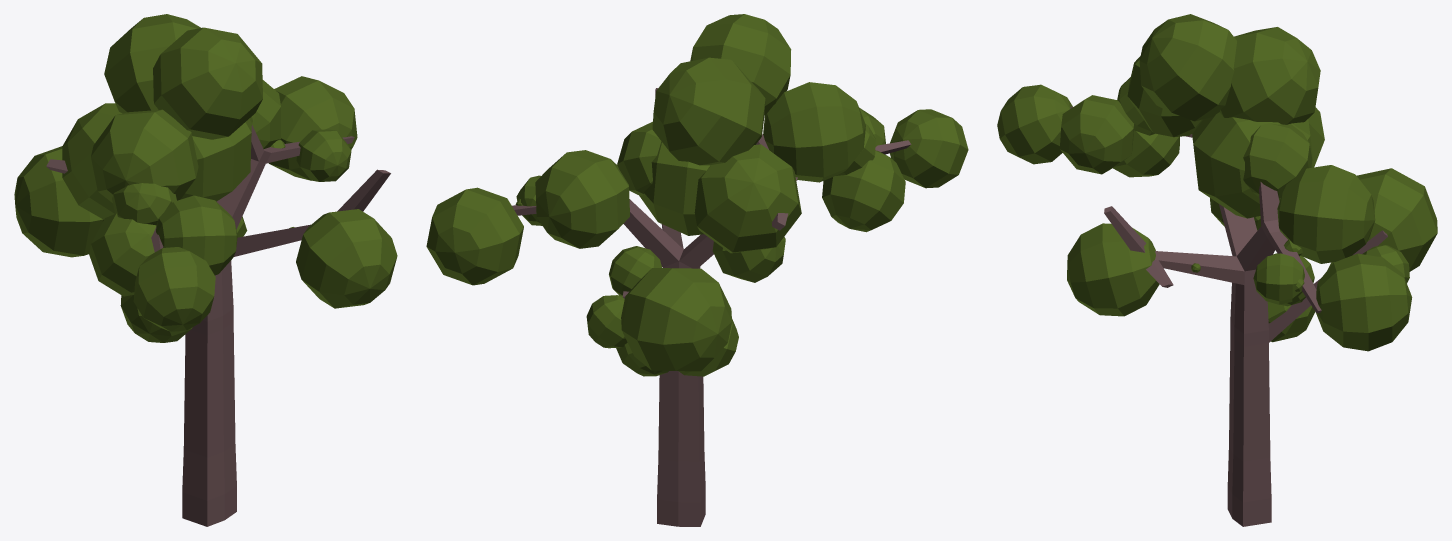
File: pohon1.fbx
The picture shows the model from 3 angles, left to right: view 1: azimuth 30°, elevation 25°; view 2: azimuth 150°, elevation 25°; view 3: azimuth 270°, elevation 25°; orthographic projection. The views are drawn at different scales.
Parts seen in each view (by area): view 1: Cube.003; view 2: Cube.003; view 3: Cube.003.
Boxes of the visible parts, bbox=[...] form: Cube.003: bbox=[14, 14, 397, 526]; Cube.003: bbox=[426, 14, 968, 526]; Cube.003: bbox=[997, 14, 1437, 526].
Bounding box in the file's own units: 366 × 468 × 387.
